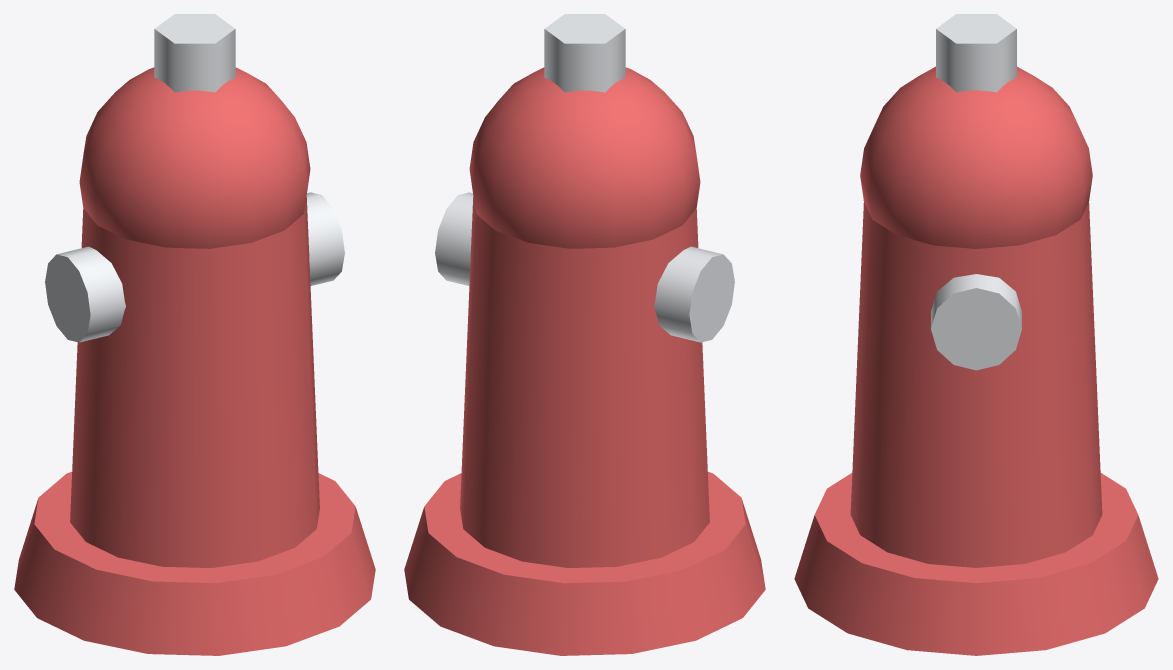
The model's file is fire_hydrant_street.glb.
3 views of the same model, side by side, from view 1: azimuth 30°, elevation 25°; view 2: azimuth 150°, elevation 25°; view 3: azimuth 270°, elevation 25° (orthographic).
Parts seen in each view (by area): view 1: fire_hydrant_street; view 2: fire_hydrant_street; view 3: fire_hydrant_street.
Part boxes in pixels (x1,y1,x2,y2): fire_hydrant_street: (14,14,375,655); fire_hydrant_street: (404,14,765,655); fire_hydrant_street: (794,14,1158,655).
Size of the model in its own units: 0.72 by 1.2 by 0.72.
